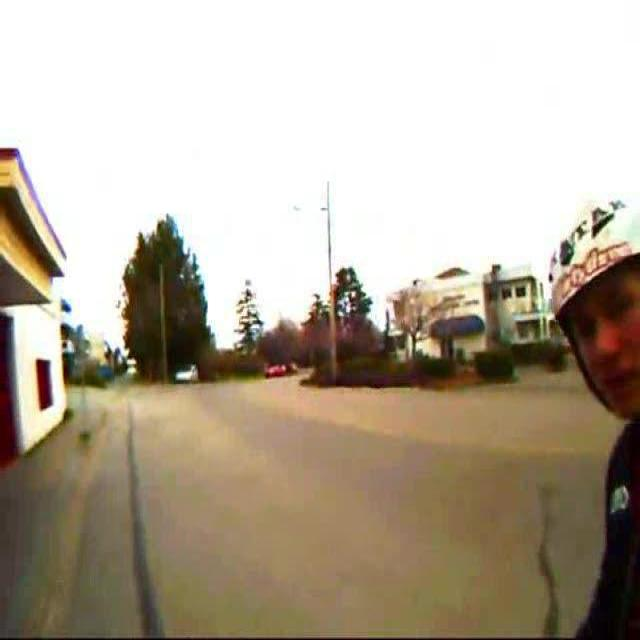other: (60, 260, 137, 384)
